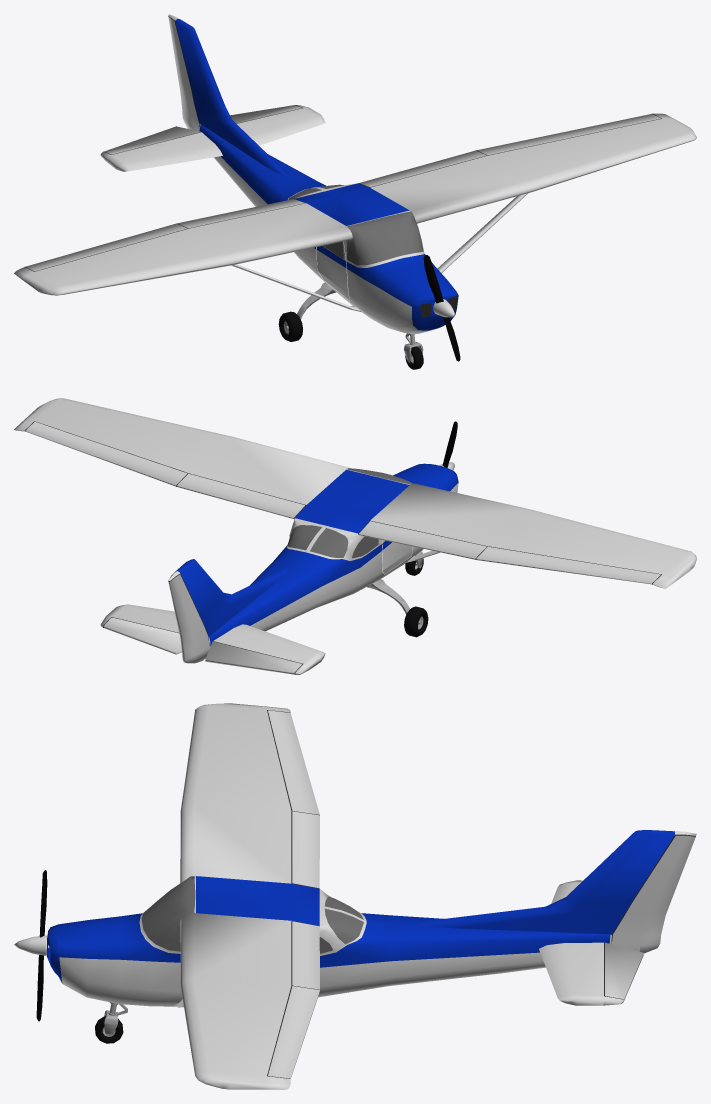
Rendered from uploads_files_936899_Prop_plane2.fbx.
The picture shows the model from 3 angles, top to bottom: view 1: azimuth 30°, elevation 25°; view 2: azimuth 150°, elevation 25°; view 3: azimuth 270°, elevation 25°; orthographic projection. The views are drawn at different scales.
Visible parts, largest first — view 1: Empty_Mesh; view 2: Empty_Mesh; view 3: Empty_Mesh.
Part boxes in pixels (x1,y1,x2,y2): Empty_Mesh: (14,14,696,369); Empty_Mesh: (14,398,696,674); Empty_Mesh: (14,703,696,1089).
Size of the model in its own units: 1543 by 402 by 1172.
